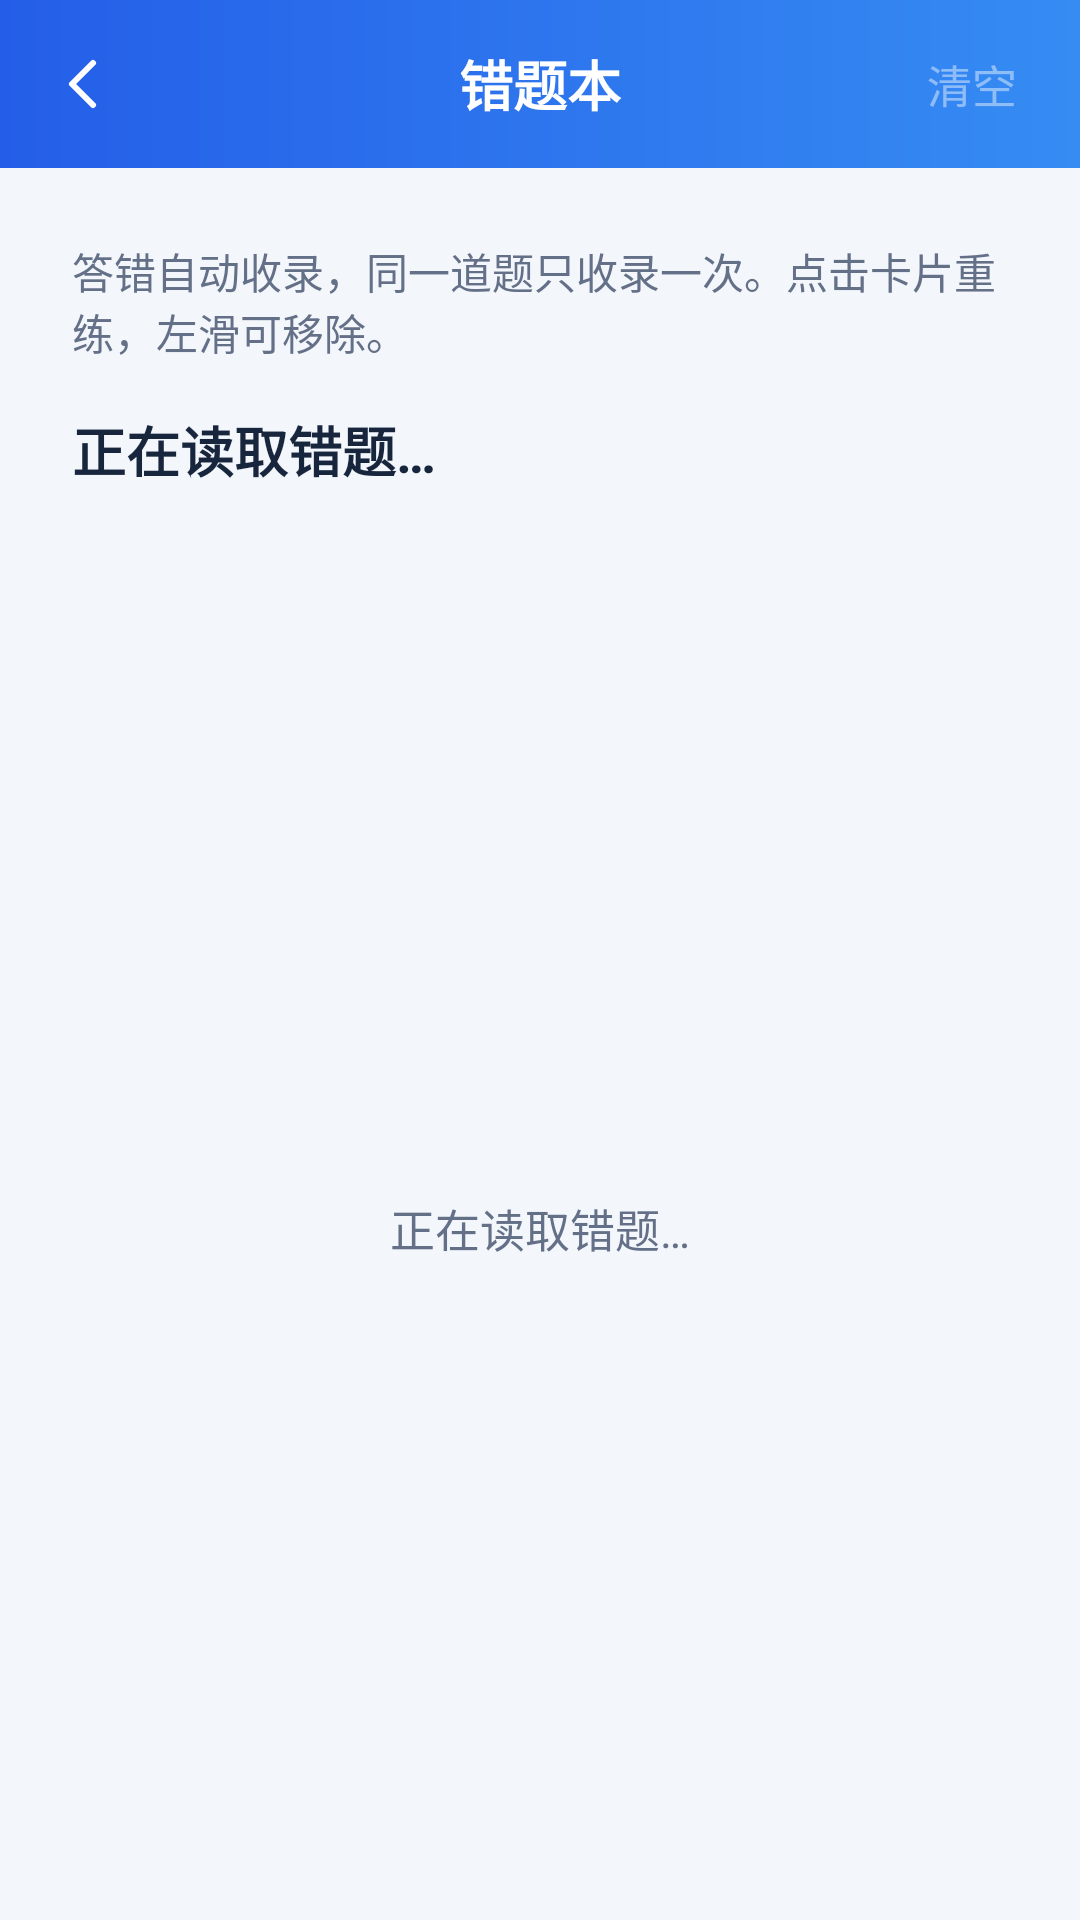

Locate icon controls on the screen. Image size 1080*1920, boxes as (x1, y1, x2, y2).
返回首页: (69, 60, 96, 108)
